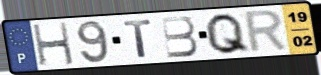9: (74, 19, 111, 65)
B: (159, 14, 201, 60)
H: (30, 21, 76, 68)
Q: (203, 12, 253, 56)
R: (243, 8, 291, 55)
T: (121, 18, 155, 59)
